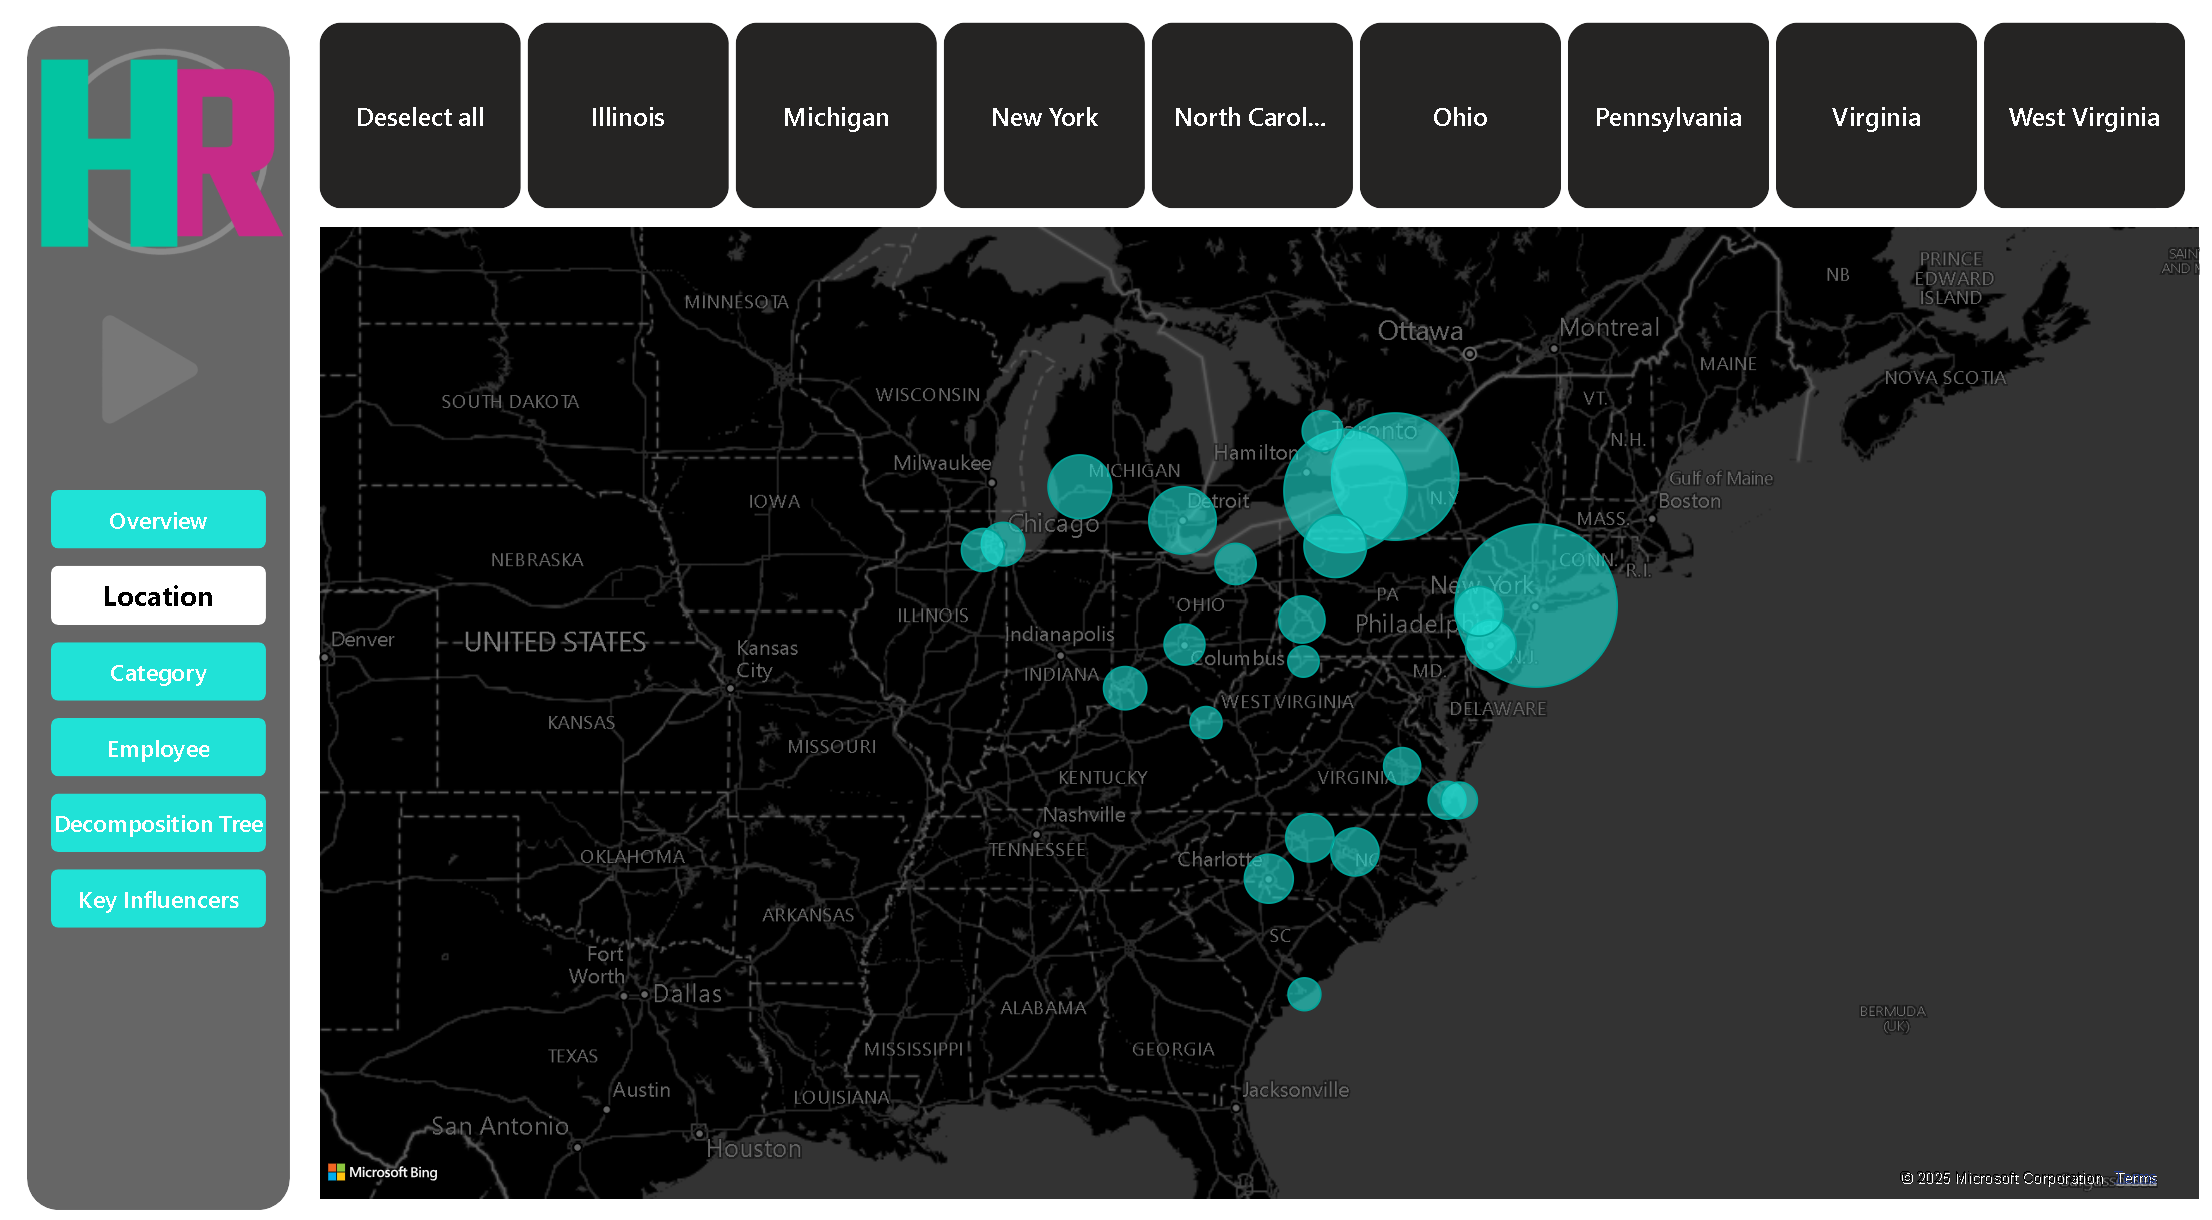

The dashboard page shown, as its layout file describes it:
{"tool":"powerbi","page":{"name":"Location","canvas":[1280,720],"ordinal":1},"visuals":[{"type":"map","fields":{"Size":["DAX Measures.Total Hired"],"Category":["HumanResources.City"]},"box":[164.8,130.5,1103.4,574.7],"z":0},{"type":"advancedSlicerVisual","fields":{"Values":["HumanResources.State"]},"box":[164.8,11.9,1103.4,118.6],"z":1000},{"type":"shape","box":[0,18.5,152.9,688.1],"z":2000},{"type":"image","box":[2.6,18.5,152.9,145],"z":3000},{"type":"pageNavigator","box":[14.5,288.7,125.2,254.4],"z":4000},{"type":"image","box":[25,181.9,92.3,73.8],"z":7000}]}

Visuals, with their boxes on the page's 1280x720 design canvas (x1, y1, x2, y2). These are canvas units, not pixel positions in the 2212x1220 screenshot, which may show the page scaled, cropped or inside an application window:
map - DAX Measures.Total Hired x HumanResources.City: l=165, t=130, r=1268, b=705
advancedSlicerVisual - HumanResources.State: l=165, t=12, r=1268, b=130
shape: l=0, t=18, r=153, b=707
image: l=3, t=18, r=156, b=164
pageNavigator: l=14, t=289, r=140, b=543
image: l=25, t=182, r=117, b=256
